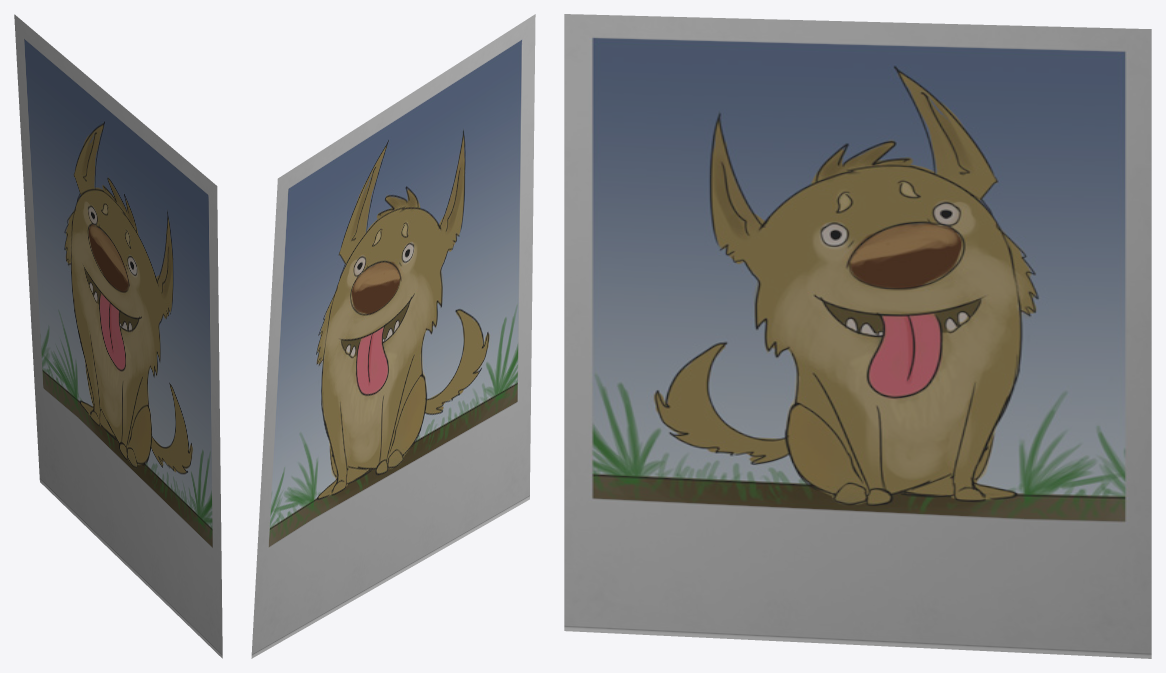
Rendered from Foto_3.fbx.
3 renders of one model, left to right at view 1: azimuth 30°, elevation 25°; view 2: azimuth 150°, elevation 25°; view 3: azimuth 270°, elevation 25°, orthographic. The views are drawn at different scales.
Visible parts, largest first — view 1: pPlane3; view 2: pPlane3; view 3: pPlane3.
Boxes of the visible parts, x1,y1,x2,y2 form: pPlane3: (14, 14, 222, 658); pPlane3: (251, 14, 535, 658); pPlane3: (564, 14, 1151, 658).
Size of the model in its own units: 1.9 by 17.35 by 15.05.
